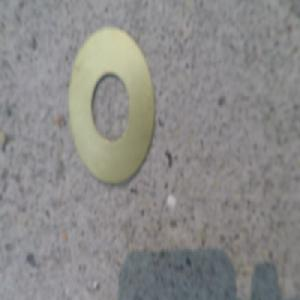Washer: (69, 29, 155, 184)
